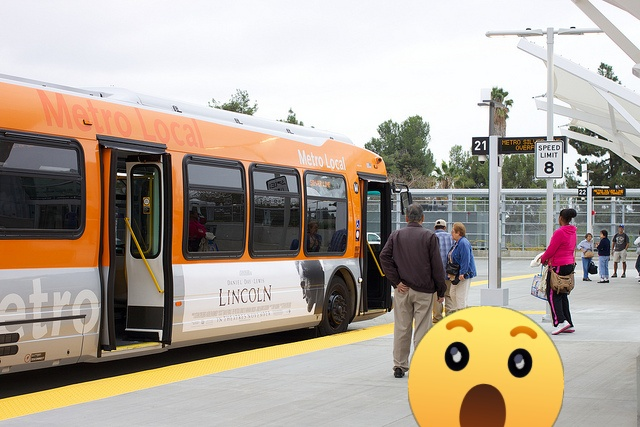wow: (408, 306, 564, 427)
